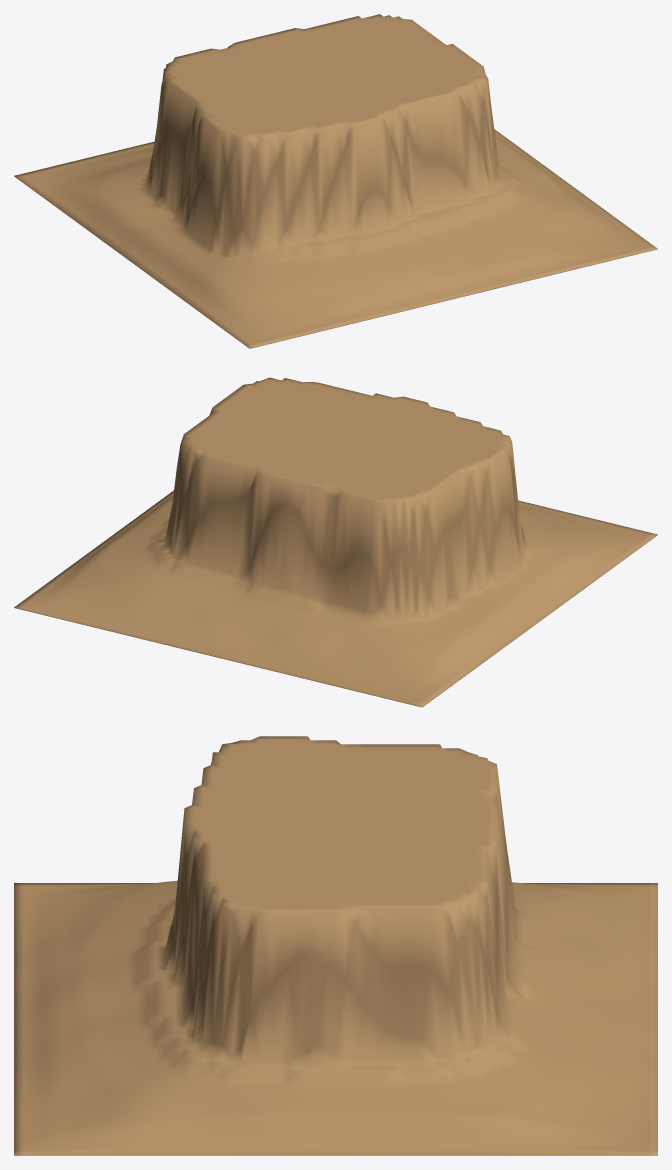
The model's file is SM_MesaD.fbx.
3 renders of one model, top to bottom at view 1: azimuth 30°, elevation 25°; view 2: azimuth 150°, elevation 25°; view 3: azimuth 270°, elevation 25°, orthographic. The views are drawn at different scales.
Visible parts, largest first — view 1: SM_MesaD; view 2: SM_MesaD; view 3: SM_MesaD.
Part boxes in pixels (x1=…): SM_MesaD: x1=14, y1=14, x2=657, y2=348; SM_MesaD: x1=14, y1=377, x2=657, y2=707; SM_MesaD: x1=14, y1=736, x2=657, y2=1155.
Bounding box in the file's own units: 100 × 100 × 32.12.
